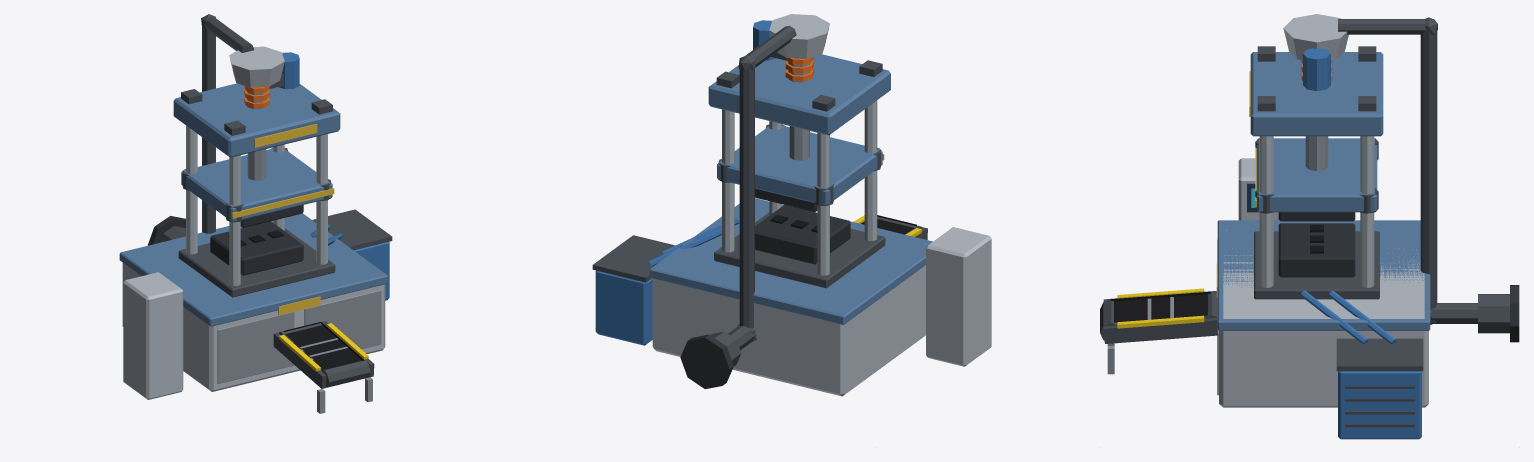
Rendered from presse_plastique_t2.glb.
3 renders of one model, left to right at view 1: azimuth 30°, elevation 25°; view 2: azimuth 150°, elevation 25°; view 3: azimuth 270°, elevation 25°, orthographic. The views are drawn at different scales.
Visible parts, largest first — view 1: pieces_acier_sombre.017, pieces_separateur.002, pieces_acier.017, pieces_gris_clair.004, plateau_fixe.002, coulisseau_separateur.002, socle.004, pieces_inox.002, pieces_fonte.017, pieces_noir.017, tremie.002, pieces_bleu.012 (+5 smaller); view 2: socle.004, pieces_acier_sombre.017, pieces_separateur.002, pieces_gris_clair.004, plateau_fixe.002, coulisseau_separateur.002, pieces_fonte.017, pieces_inox.002, pieces_bleu.012, tremie.002, pieces_noir.017, coulisseau_acier.004 (+1 smaller); view 3: pieces_acier_sombre.017, socle.004, plateau_fixe.002, pieces_separateur.002, pieces_bleu.012, coulisseau_separateur.002, pieces_fonte.017, pieces_inox.002, pieces_noir.017, tremie.002, pieces_rive_t1.012, pieces_gris_clair.004 (+4 smaller).
Part boxes in pixels (x1,y1,x2,y2): pieces_acier_sombre.017: (160, 14, 392, 388); pieces_separateur.002: (119, 213, 388, 326); pieces_acier.017: (217, 87, 381, 413); pieces_gris_clair.004: (123, 272, 183, 399); plateau_fixe.002: (173, 83, 340, 157); coulisseau_separateur.002: (181, 148, 332, 221); socle.004: (122, 263, 385, 391); pieces_inox.002: (186, 125, 327, 285); pieces_fonte.017: (148, 216, 303, 275); pieces_noir.017: (240, 230, 364, 370); tremie.002: (229, 46, 284, 87); pieces_bleu.012: (278, 52, 389, 300); socle.004: (652, 265, 925, 396); pieces_acier_sombre.017: (592, 25, 927, 366); pieces_separateur.002: (649, 198, 932, 324); pieces_gris_clair.004: (926, 227, 991, 366); plateau_fixe.002: (708, 54, 890, 135); coulisseau_separateur.002: (717, 125, 882, 205); pieces_fonte.017: (680, 205, 850, 389); pieces_inox.002: (722, 100, 877, 275); pieces_bleu.012: (595, 20, 775, 345); tremie.002: (769, 14, 829, 58); pieces_noir.017: (770, 214, 916, 234); coulisseau_acier.004: (789, 126, 809, 160); pieces_acier_sombre.017: (1100, 17, 1509, 427); socle.004: (1219, 229, 1428, 407); plateau_fixe.002: (1250, 52, 1383, 136); pieces_separateur.002: (1217, 220, 1430, 330); pieces_bleu.012: (1301, 48, 1421, 439); coulisseau_separateur.002: (1256, 138, 1377, 212); pieces_fonte.017: (1278, 223, 1519, 342); pieces_inox.002: (1259, 136, 1374, 287); pieces_noir.017: (1110, 224, 1323, 322); tremie.002: (1283, 14, 1348, 60); pieces_rive_t1.012: (1117, 288, 1204, 328); pieces_gris_clair.004: (1238, 158, 1278, 220).
Size of the model in its own units: 1.5 by 1.35 by 1.5.
